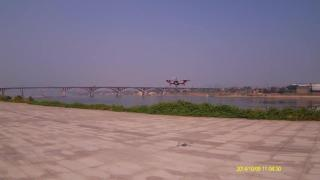UAV: (166, 77, 188, 87)
